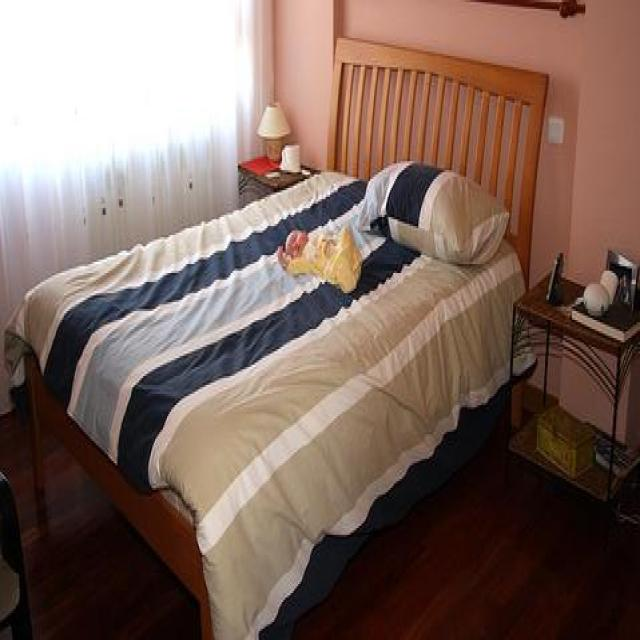bed: (5, 33, 549, 638)
table: (508, 264, 638, 510)
